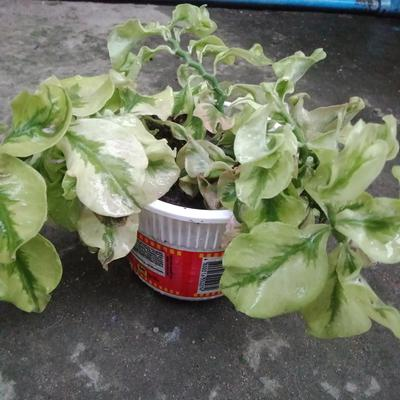Pothos plant: (30, 11, 375, 306)
